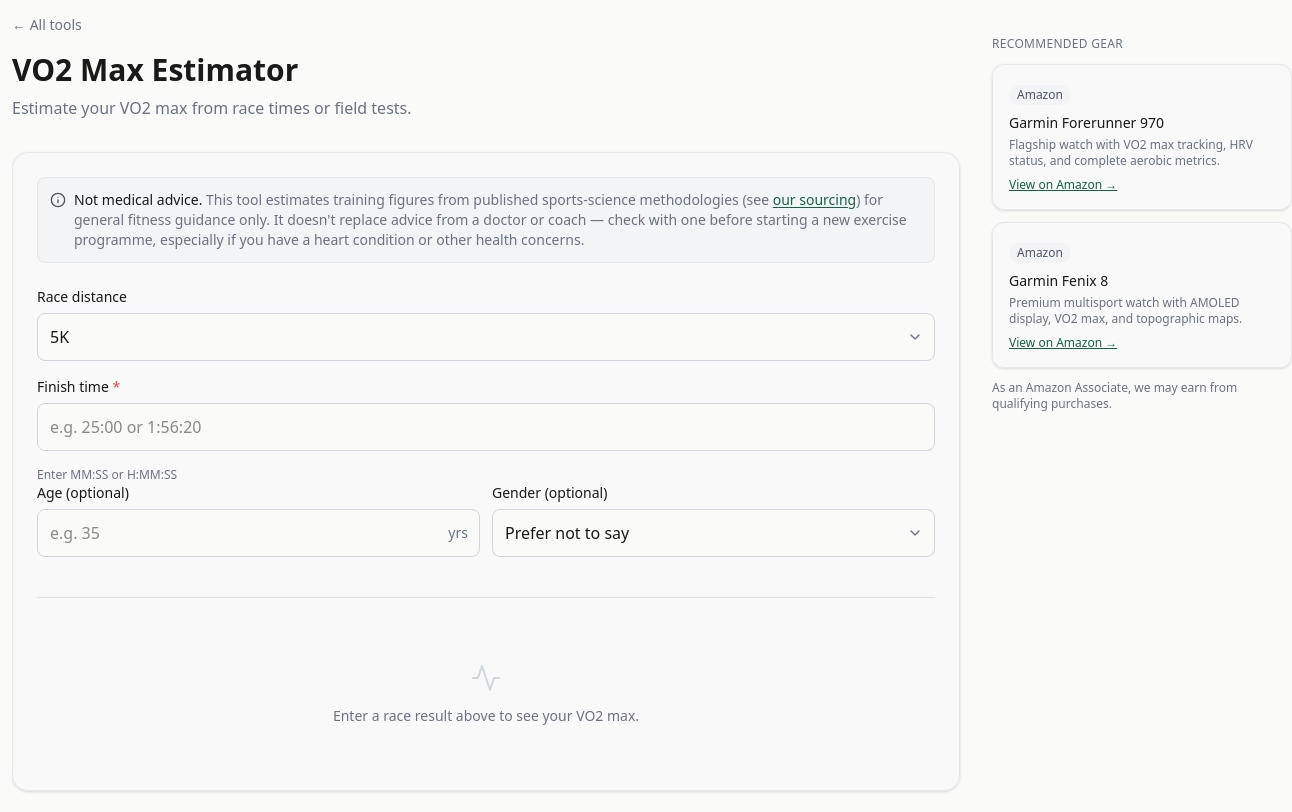
Test: Vo2max page › VDOT is displayed with ml/kg/min unit (AC6)
The image size is (1292, 812).
Type "25:00" into the field labelled "Finish time *" at x=486, y=427, box [37,403,935,451]
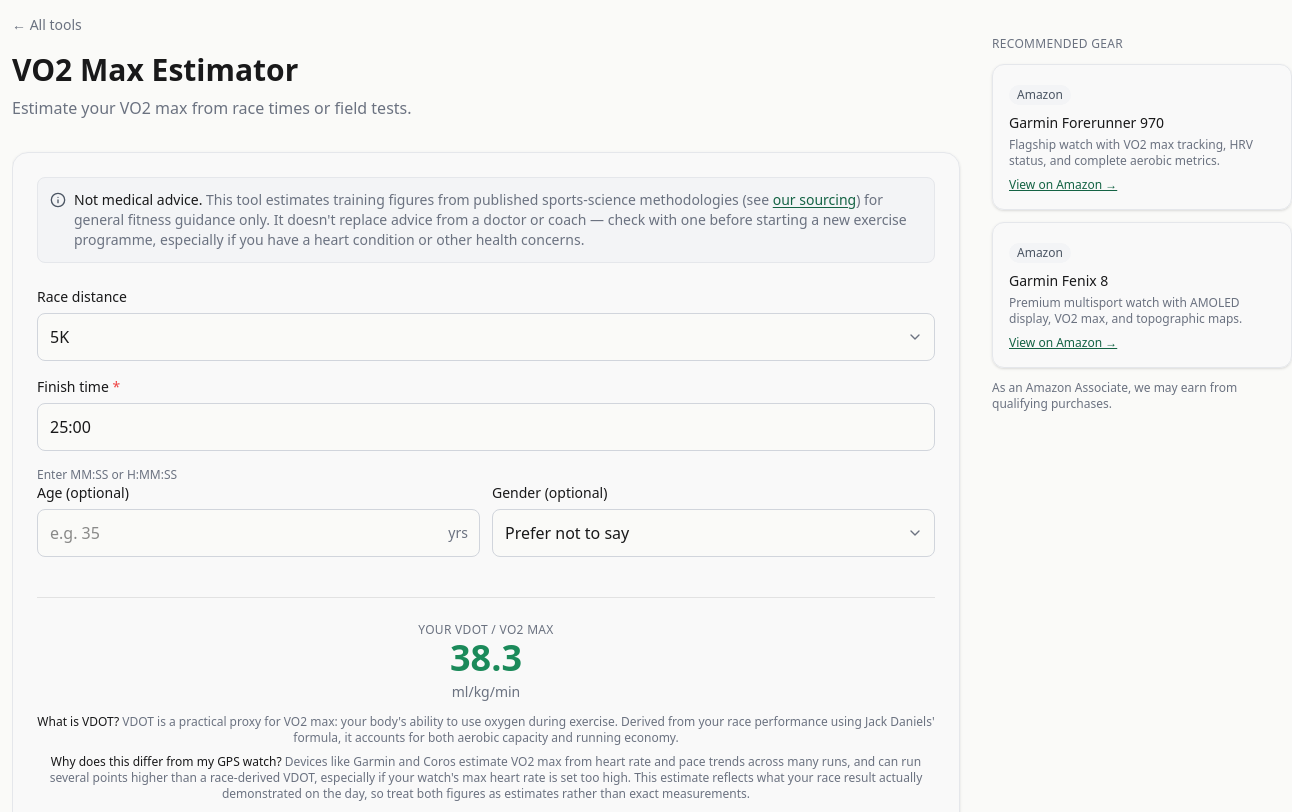
Check: the text "ml/kg/min" is shown, box [452,682,520,701]
